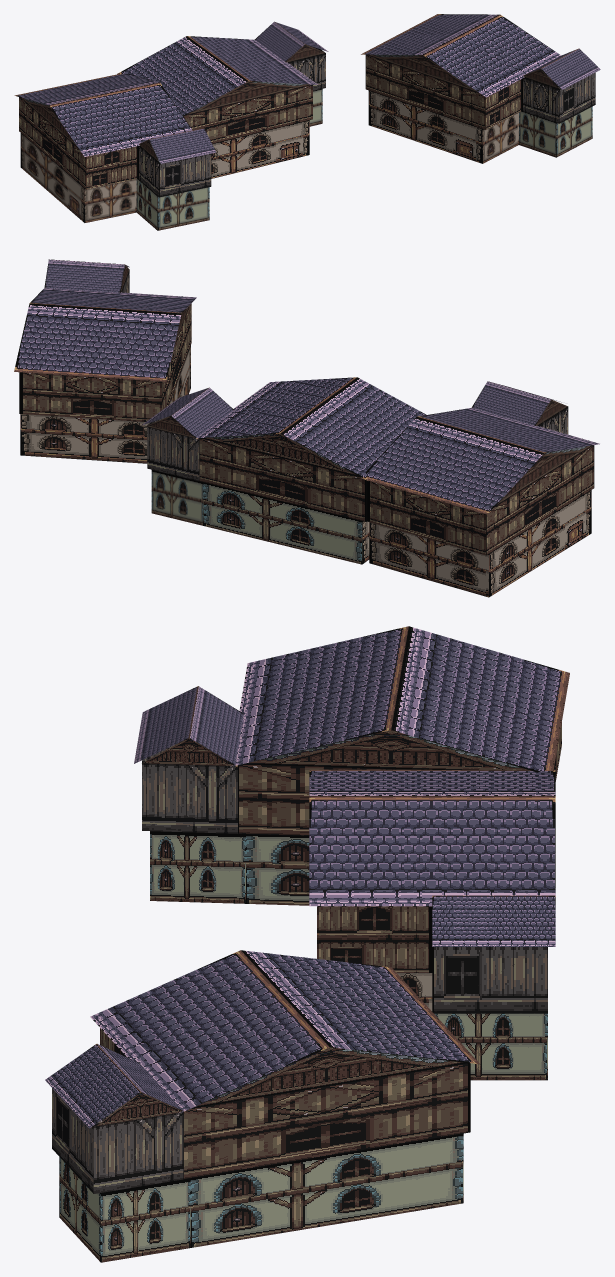
The model's file is house_medium_cluster.glb.
3 views of the same model, one above another, from view 1: azimuth 30°, elevation 25°; view 2: azimuth 150°, elevation 25°; view 3: azimuth 270°, elevation 25° (orthographic). The views are drawn at different scales.
Visible parts, largest first — view 1: House_Roof_Right.002, House_Roof_Right.001, House_Roof_Left, House_Upper_Front.001, House_Ground_Front.001, House_Upper_Front, House_Ground_Front, House_Roof_Right, House_Roof_Left.001, House_Upper_Front.002, House_Ground_Front.002, House_Roof_Left.002 (+22 smaller); view 2: House_Roof_Left.001, House_Roof_Left.002, House_Upper_Back, House_Roof_Left, House_Ground_Back, House_Upper_Left.001, House_Ground_Left.001, House_Ground_Left.002, House_Upper_Left.002, House_Upper_Front.002, House_Roof_Right, House_Ground_Front.002 (+14 smaller); view 3: House_Roof_Right, House_Roof_Right.001, House_Upper_Back.001, House_Ground_Back.001, House_Roof_Left.002, House_Roof_Right.002, House_Roof_Left.001, House_Wing_Upper_Right, House_Upper_Right_Front, House_Wing_Ground_Back.002, House_Roof_Left, House_Wing_Upper_Back.002 (+16 smaller).
Boxes of the visible parts, bbox=[...] form: House_Roof_Right.002: bbox=[49, 82, 192, 156]; House_Roof_Right.001: bbox=[423, 14, 560, 97]; House_Roof_Left: bbox=[117, 36, 247, 116]; House_Upper_Front.001: bbox=[365, 54, 485, 129]; House_Ground_Front.001: bbox=[368, 90, 482, 163]; House_Upper_Front: bbox=[183, 84, 312, 143]; House_Ground_Front: bbox=[211, 120, 309, 178]; House_Roof_Right: bbox=[187, 36, 317, 84]; House_Roof_Left.001: bbox=[361, 14, 499, 55]; House_Upper_Front.002: bbox=[19, 97, 86, 189]; House_Ground_Front.002: bbox=[20, 133, 84, 222]; House_Roof_Left.002: bbox=[14, 74, 159, 105]; House_Roof_Left.001: bbox=[14, 303, 181, 381]; House_Roof_Left.002: bbox=[360, 417, 543, 514]; House_Upper_Back: bbox=[199, 438, 366, 521]; House_Roof_Left: bbox=[281, 377, 426, 480]; House_Ground_Back: bbox=[203, 482, 362, 564]; House_Upper_Left.001: bbox=[19, 372, 162, 421]; House_Ground_Left.001: bbox=[20, 414, 150, 463]; House_Ground_Left.002: bbox=[369, 522, 488, 597]; House_Upper_Left.002: bbox=[367, 481, 486, 555]; House_Upper_Front.002: bbox=[486, 445, 594, 555]; House_Roof_Right: bbox=[193, 377, 356, 438]; House_Ground_Front.002: bbox=[489, 490, 591, 597]; House_Roof_Right: bbox=[309, 796, 555, 906]; House_Roof_Right.001: bbox=[90, 950, 329, 1113]; House_Upper_Back.001: bbox=[183, 1063, 470, 1179]; House_Ground_Back.001: bbox=[190, 1133, 463, 1247]; House_Roof_Left.002: bbox=[391, 626, 569, 772]; House_Roof_Right.002: bbox=[230, 626, 408, 766]; House_Roof_Left.001: bbox=[241, 950, 479, 1064]; House_Wing_Upper_Right: bbox=[432, 947, 547, 1013]; House_Upper_Right_Front: bbox=[317, 906, 432, 972]; House_Wing_Ground_Back.002: bbox=[150, 831, 245, 903]; House_Roof_Left: bbox=[309, 769, 555, 796]; House_Wing_Upper_Back.002: bbox=[142, 761, 237, 833].
Size of the model in its own units: 28.6 by 5.2 by 13.64.
6 materials, 6 textured.
